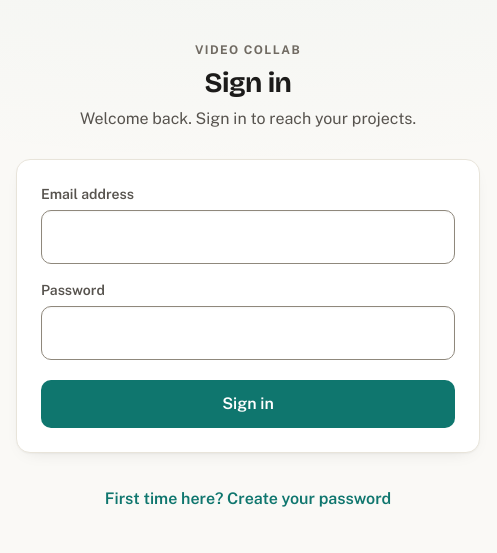
Scenario: SignInPage › signup error user_already_exists shows its message
Step 1. Click the button "First time here? Create your password" → click(248, 498), box [105,476,391,520]
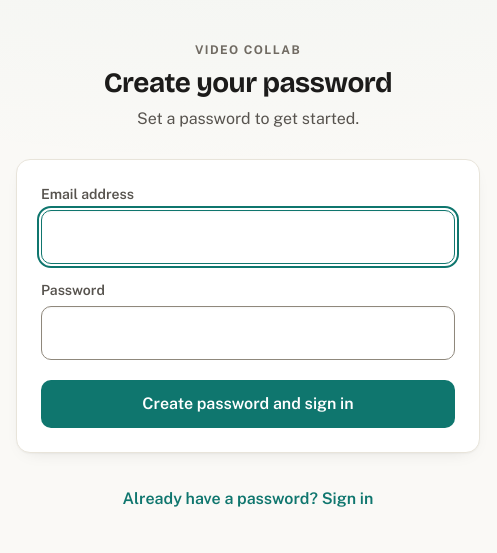
Step 2. Type "a@b.com" into the field labelled "Email address" → (248, 236), box [41,210,455,264]
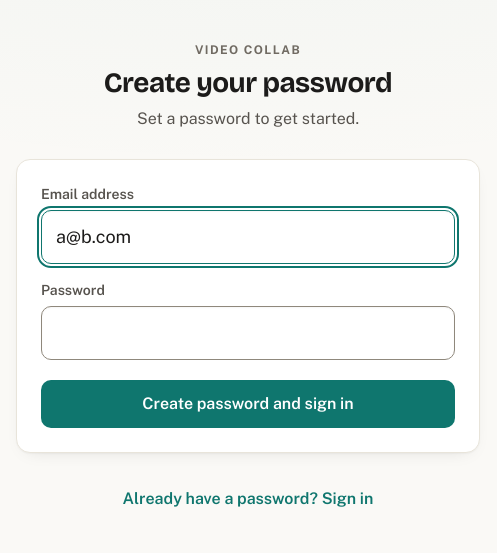
Step 3. Type "secret123" into the password field labelled "Password" → (248, 332), box [41,306,455,360]
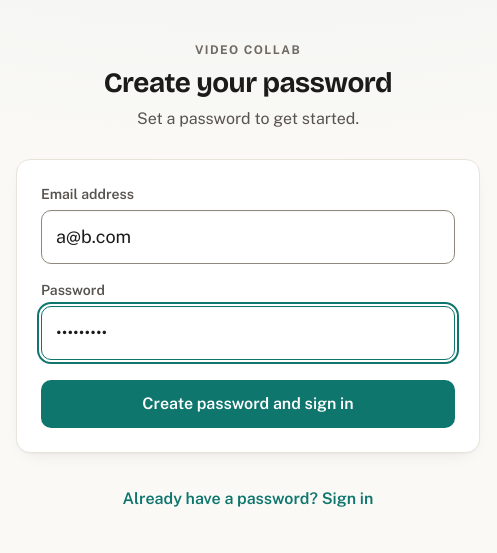
Step 4. Click the button "Create password and sign in" → click(248, 404), box [41,380,455,428]
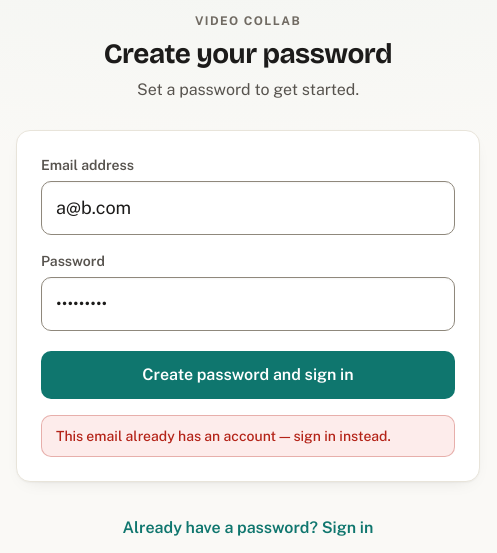
Expected: the text "This email already has an account — sign in instead." is shown, [41,414,455,456]
